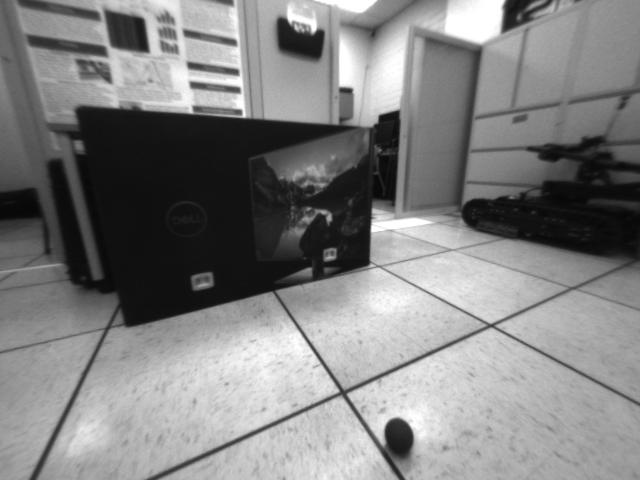dogtoy: (376, 411, 428, 465)
